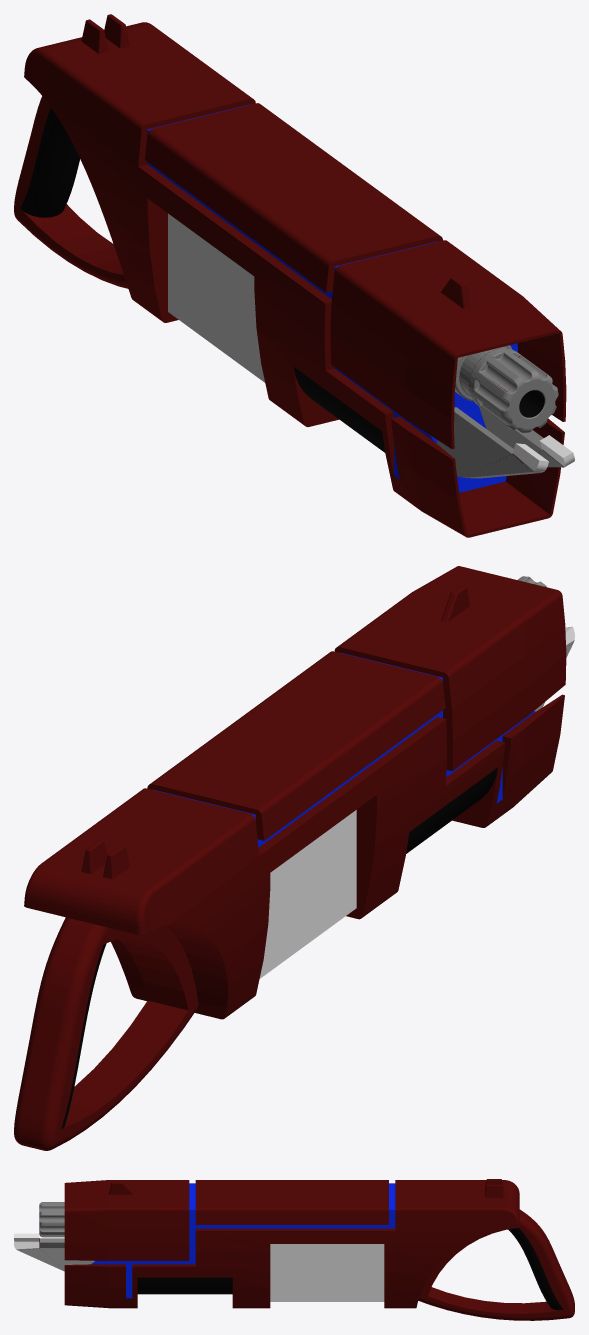
File: PlasmaGun.fbx
3 renders of one model, top to bottom at view 1: azimuth 30°, elevation 25°; view 2: azimuth 150°, elevation 25°; view 3: azimuth 270°, elevation 25°, orthographic. The views are drawn at different scales.
Parts seen in each view (by area): view 1: Gun 1 Gravity's End; view 2: Gun 1 Gravity's End; view 3: Gun 1 Gravity's End.
Boxes of the visible parts, bbox=[...] form: Gun 1 Gravity's End: bbox=[14, 14, 574, 537]; Gun 1 Gravity's End: bbox=[14, 566, 574, 1150]; Gun 1 Gravity's End: bbox=[14, 1179, 574, 1320].
Bounding box in the file's own units: 11.96 × 23.62 × 88.76.
